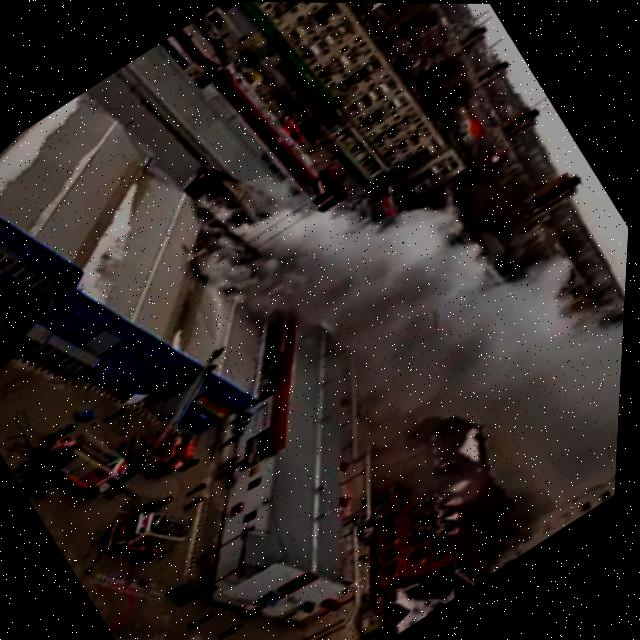Smoke: (155, 23, 639, 598)
